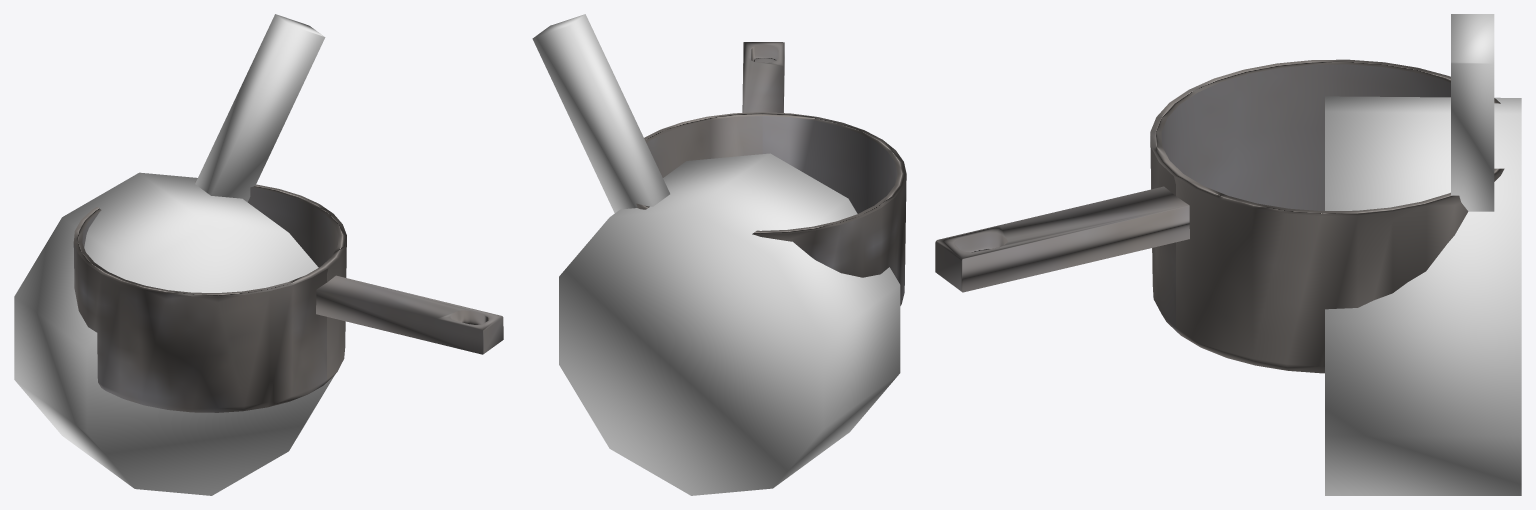
File: SM_Pan.fbx
3 views of the same model, side by side, from view 1: azimuth 30°, elevation 25°; view 2: azimuth 150°, elevation 25°; view 3: azimuth 270°, elevation 25° (orthographic). The views are drawn at different scales.
Parts seen in each view (by area): view 1: SM_Pan_ConvexHulls, SM_Pan; view 2: SM_Pan_ConvexHulls, SM_Pan; view 3: SM_Pan, SM_Pan_ConvexHulls.
Part boxes in pixels (x1,y1,x2,y2): SM_Pan_ConvexHulls: (14,14,334,495); SM_Pan: (73,181,503,412); SM_Pan_ConvexHulls: (532,14,900,495); SM_Pan: (636,42,906,305); SM_Pan: (935,59,1504,373); SM_Pan_ConvexHulls: (1325,14,1521,495).
Bounding box in the file's own units: 0.2351 × 0.3197 × 0.3093.
